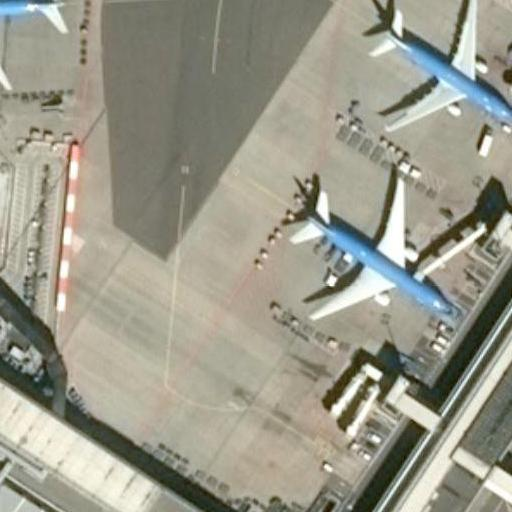Aircraft: (265, 157, 461, 326), (352, 0, 512, 136), (0, 0, 82, 91)
